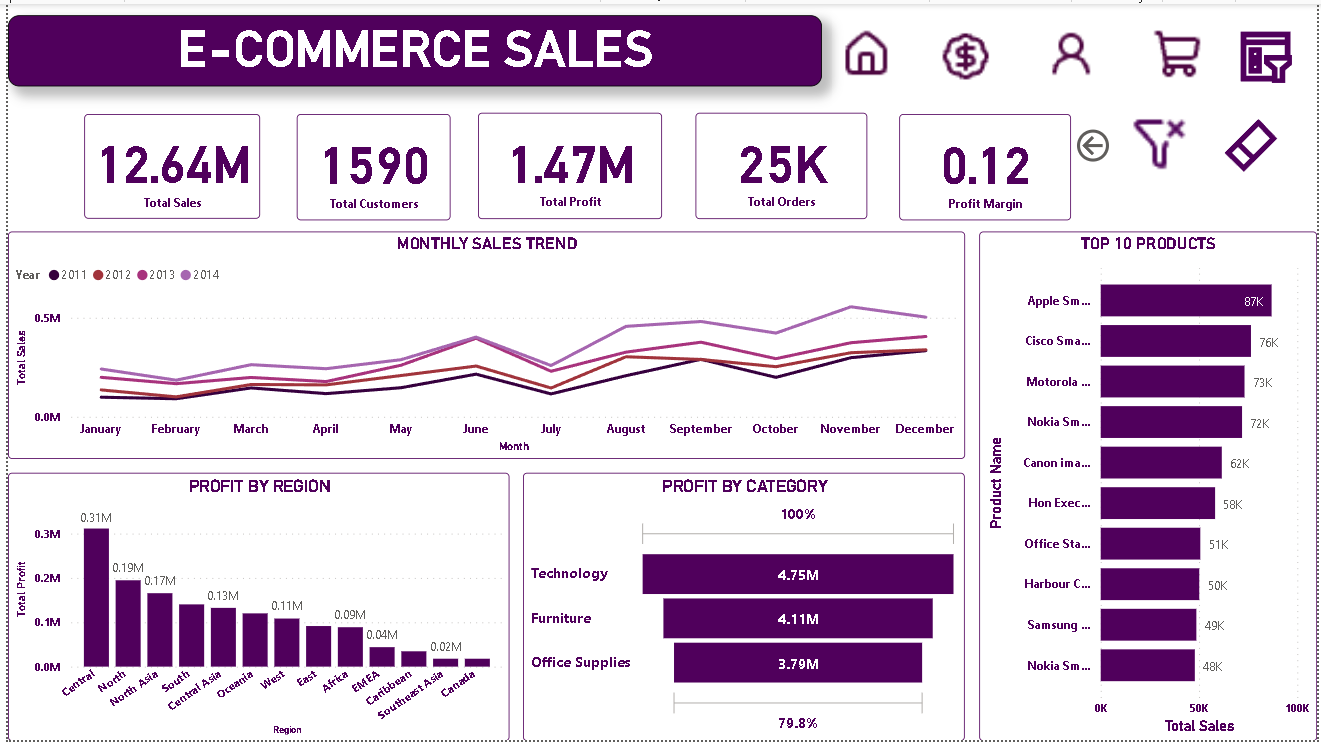

Layout of this report page (visuals, bound fields, positions):
{"tool":"powerbi","page":{"name":"summary","canvas":[1280,720],"ordinal":0},"visuals":[{"type":"card","fields":{"Values":["Orders.Total Sales"]},"box":[74,108,172,102],"z":0},{"type":"card","fields":{"Values":["Orders.Total Orders"]},"box":[672,106,168,104],"z":1000},{"type":"card","fields":{"Values":["Orders.Total Profit"]},"box":[460,106,180,104],"z":2000},{"type":"card","fields":{"Values":["Orders.Total Customers"]},"box":[282,108,150,104],"z":3000},{"type":"lineChart","title":"MONTHLY SALES TREND ","fields":{"Y":["Orders.Total Sales"],"Series":["DimDate.Year"],"Category":["DimDate.Date.Variation.Date Hierarchy.Month"]},"box":[0,222,936,222],"z":4000},{"type":"funnel","title":"PROFIT BY CATEGORY","fields":{"Category":["Orders.Category"],"Y":["Orders.Total Sales"]},"box":[504,458,432,262],"z":5000},{"type":"columnChart","title":"PROFIT BY REGION","fields":{"Category":["Orders.Region"],"Y":["Orders.Total Profit"]},"box":[0,458,490,262],"z":6000},{"type":"barChart","title":"TOP 10 PRODUCTS","fields":{"Category":["Orders.Product Name"],"Y":["Orders.Total Sales"]},"box":[950,222,330,498],"z":7000},{"type":"image","box":[795.7,19.6,87,58.7],"z":8000},{"type":"image","box":[882.6,21.7,108.7,58.7],"z":9000},{"type":"image","box":[987,19.6,106.5,58.7],"z":12000},{"type":"image","box":[1093.5,19.6,97.8,58.7],"z":17000},{"type":"actionButton","box":[1040.3,113.7,41.6,48.9],"z":18000},{"type":"textbox","title":"E-COMMERCE SALES ANALYTICS","box":[0,10.9,795.7,69.6],"z":19000},{"type":"actionButton","title":"Button REMOVE","box":[1200.4,22.5,70.9,58.8],"z":21000},{"type":"actionButton","title":"Button FILTER","box":[1185.8,108.4,87.6,59.8],"z":22000},{"type":"card","fields":{"Values":["Orders.Profit Margin"]},"box":[872,108,168,104],"z":23000},{"type":"image","box":[1094,104.3,63.9,63.9],"z":24000}]}

Visuals, with their boxes in screenshot pixels (x1, y1, x2, y2), scaled from the page's 1280x720 canvas onto the 1321x747 screenshot:
card - Orders.Total Sales: 76:112:254:218
card - Orders.Total Orders: 694:110:867:218
card - Orders.Total Profit: 475:110:660:218
card - Orders.Total Customers: 291:112:446:220
"MONTHLY SALES TREND " lineChart: 0:230:966:461
"PROFIT BY CATEGORY" funnel: 520:475:966:746
"PROFIT BY REGION" columnChart: 0:475:506:746
"TOP 10 PRODUCTS" barChart: 980:230:1320:746
image: 821:20:911:81
image: 911:23:1023:83
image: 1019:20:1129:81
image: 1129:20:1229:81
actionButton: 1074:118:1117:169
"E-COMMERCE SALES ANALYTICS" textbox: 0:11:821:84
"Button REMOVE" actionButton: 1239:23:1312:84
"Button FILTER" actionButton: 1224:112:1314:175
card - Orders.Profit Margin: 900:112:1073:220
image: 1129:108:1195:175
